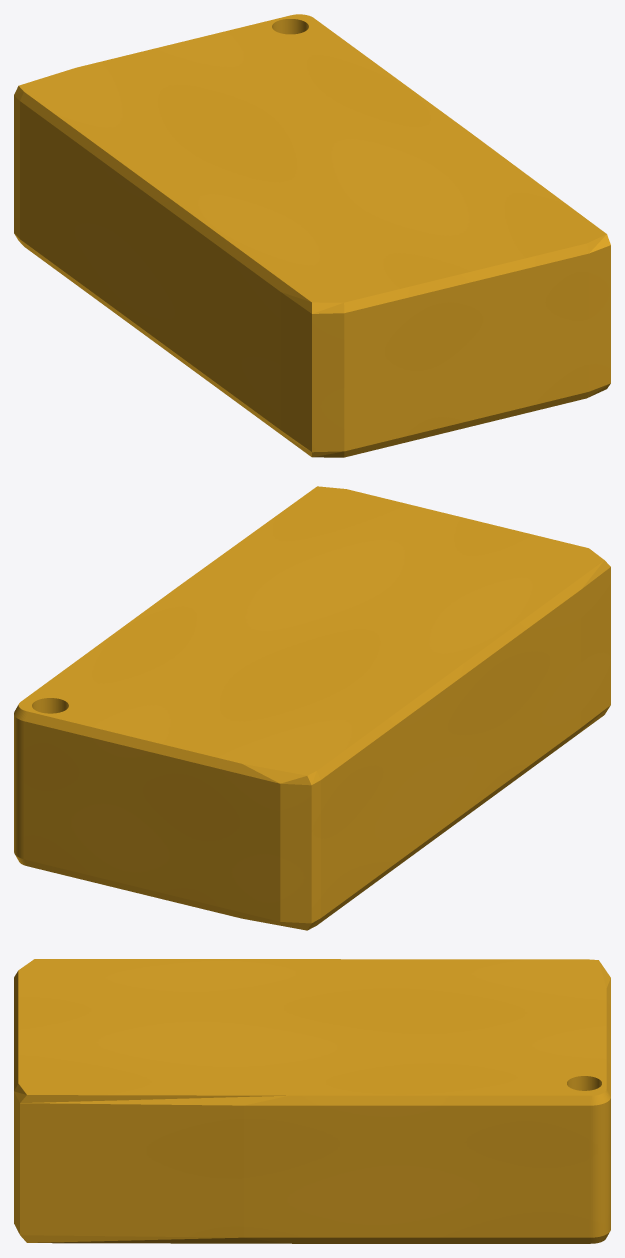
File: tag_housing.dae
3 renders of one model, top to bottom at view 1: azimuth 30°, elevation 25°; view 2: azimuth 150°, elevation 25°; view 3: azimuth 270°, elevation 25°, orthographic. The views are drawn at different scales.
Parts seen in each view (by area): view 1: tag; view 2: tag; view 3: tag.
Part boxes in pixels (<box>): tag: <box>14,14,610,457</box>; tag: <box>14,486,610,930</box>; tag: <box>14,959,610,1243</box>.
Size of the model in its own units: 0.0376 by 0.0676 by 0.0185.
1 material, 1 textured.
